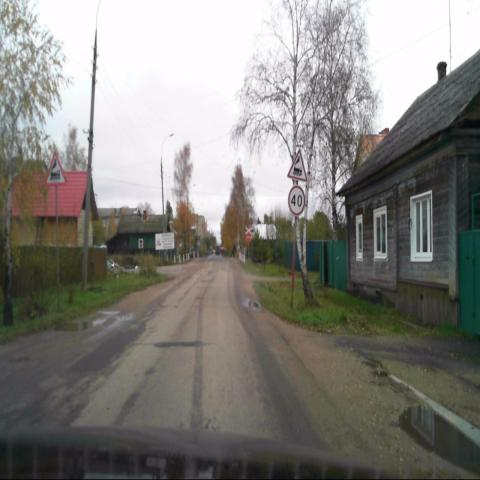1_2: (287, 148, 307, 182)
